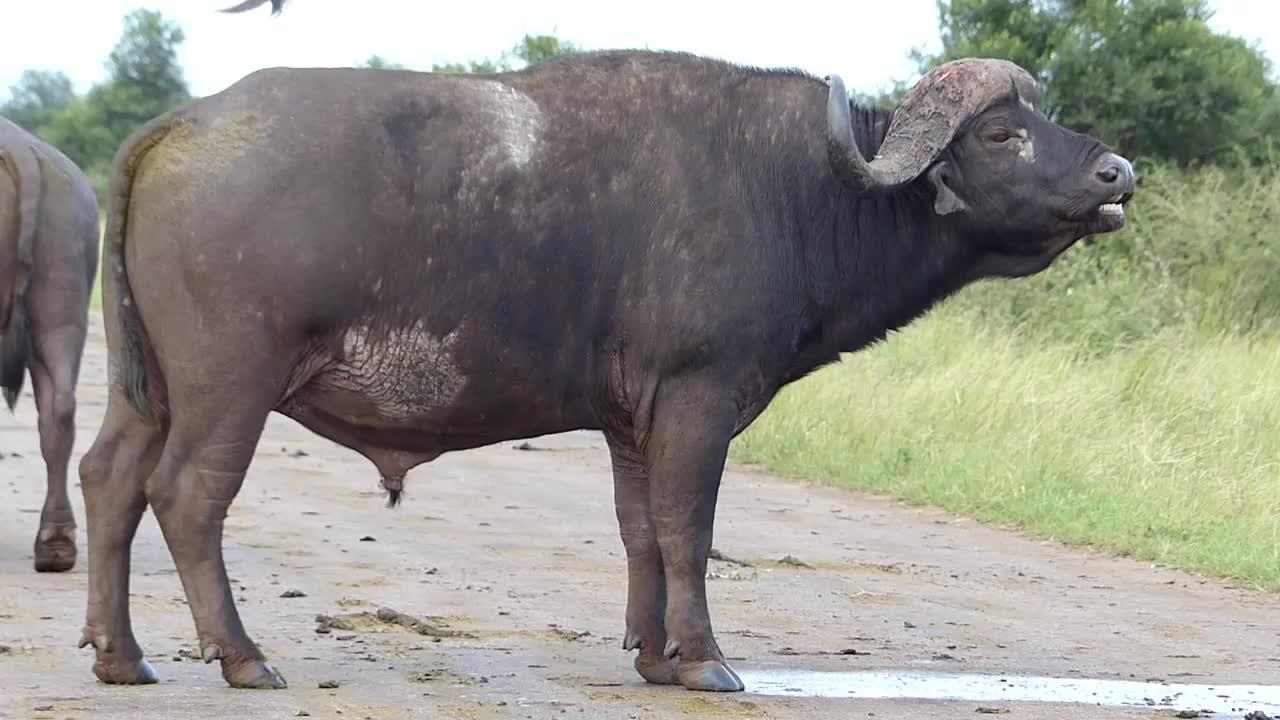Buffalo: (68, 0, 1224, 720)
